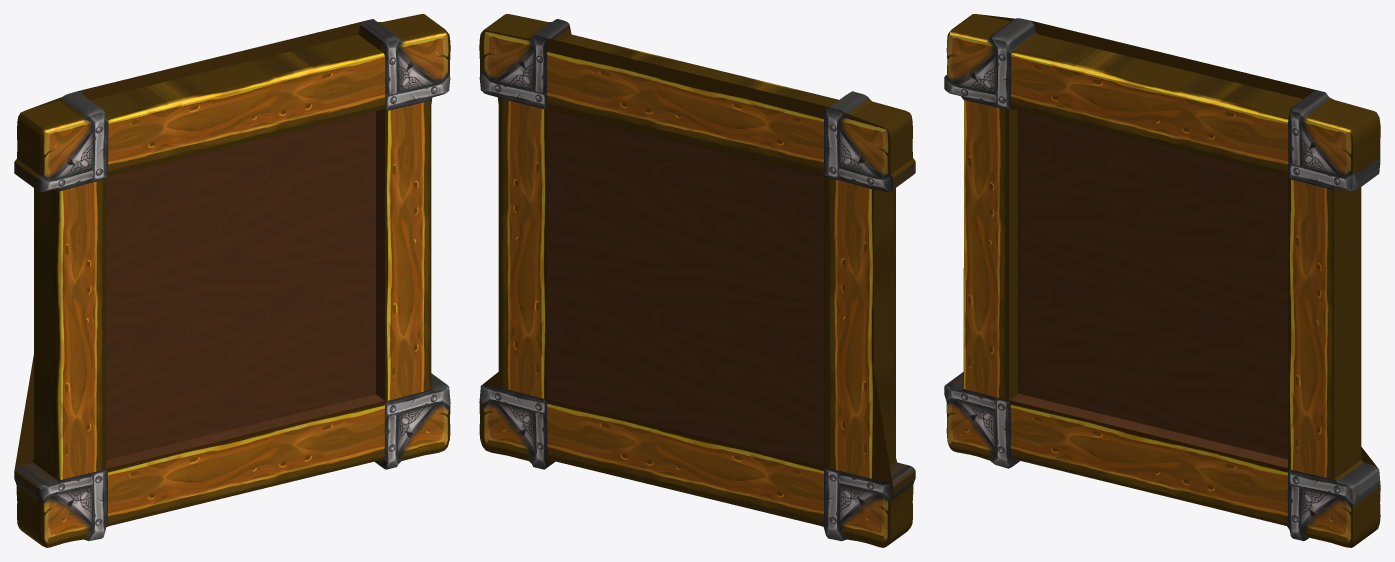
The model's file is 3D_Panel.fbx.
3 renders of one model, left to right at view 1: azimuth 30°, elevation 25°; view 2: azimuth 150°, elevation 25°; view 3: azimuth 330°, elevation 25°, orthographic.
Parts seen in each view (by area): view 1: Panel; view 2: Panel; view 3: Panel.
Boxes of the visible parts, x1,y1,x2,y2 form: Panel: (14,14,450,547); Panel: (479,14,915,547); Panel: (944,14,1380,547).
Size of the model in its own units: 34.31 by 34.24 by 3.55.
